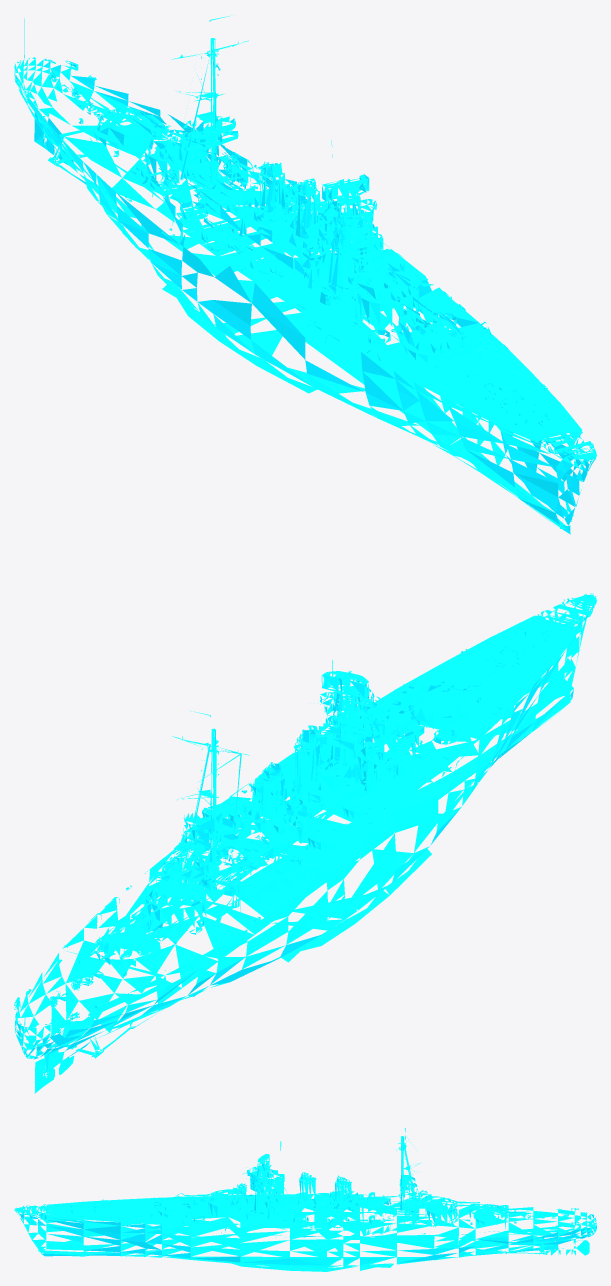
Rendered from PISB805.glb.
3 views of the same model, one above another, from view 1: azimuth 30°, elevation 25°; view 2: azimuth 150°, elevation 25°; view 3: azimuth 270°, elevation 25° (orthographic). The views are drawn at different scales.
Visible parts, largest first — view 1: hull_mid, hull_bow, hull_stern, main_battery, secondary_battery, hull_body; view 2: hull_mid, hull_bow, hull_stern, main_battery, secondary_battery, hull_body; view 3: hull_mid, hull_bow, hull_stern, main_battery, secondary_battery, hull_body.
Part boxes in pixels (<box>): hull_mid: <box>96,16,507,445</box>; hull_bow: <box>371,344,596,534</box>; hull_stern: <box>14,18,218,231</box>; main_battery: <box>75,94,487,364</box>; secondary_battery: <box>158,152,399,305</box>; hull_body: <box>303,174,377,249</box>; hull_mid: <box>88,660,507,1003</box>; hull_bow: <box>394,593,596,792</box>; hull_stern: <box>14,915,219,1093</box>; main_battery: <box>75,668,475,969</box>; secondary_battery: <box>159,744,404,896</box>; hull_body: <box>307,670,379,753</box>; hull_mid: <box>151,1128,470,1271</box>; hull_bow: <box>14,1197,161,1257</box>; hull_stern: <box>459,1203,596,1257</box>; main_battery: <box>134,1183,530,1220</box>; secondary_battery: <box>240,1190,424,1227</box>; hull_body: <box>257,1154,275,1199</box>.
Bounding box in the file's own units: 1.87 × 3.04 × 12.43.
